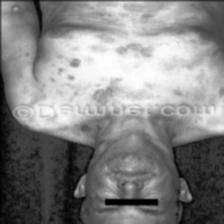Potentially Malignant Skin Tumors: (51, 0, 219, 76), (84, 76, 156, 104), (9, 83, 61, 103), (178, 82, 224, 104), (202, 110, 224, 132)
